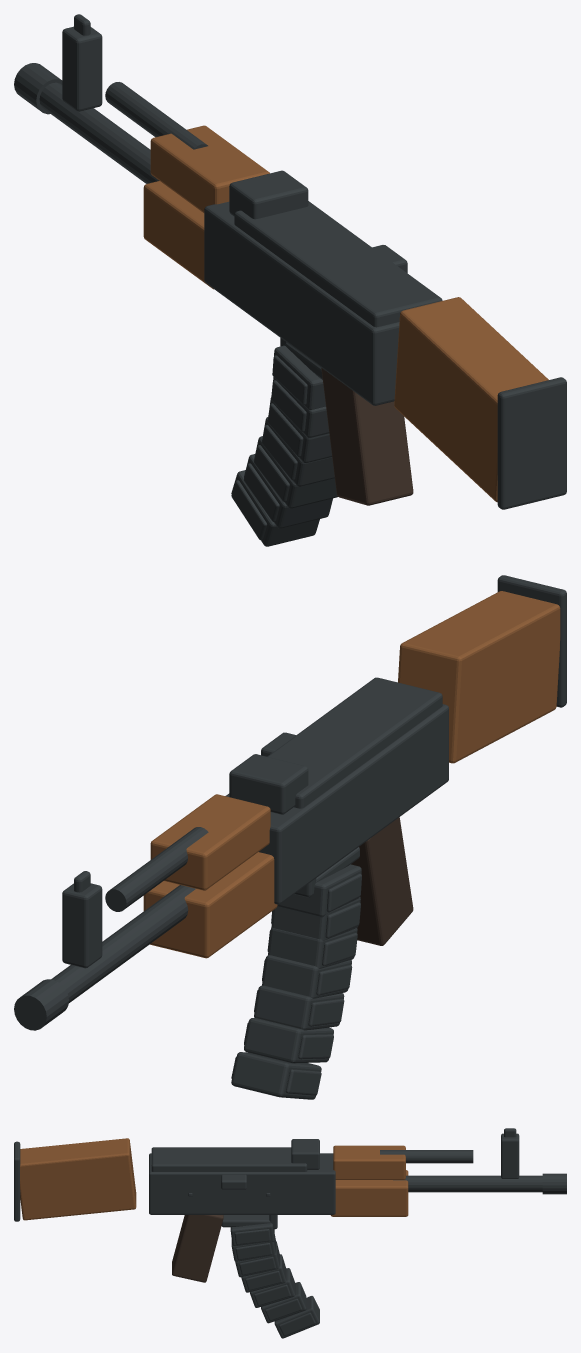
File: Weapon_ak47.glb
3 views of the same model, one above another, from view 1: azimuth 30°, elevation 25°; view 2: azimuth 150°, elevation 25°; view 3: azimuth 270°, elevation 25° (orthographic). The views are drawn at different scales.
Visible parts, largest first — view 1: Weapon_ak47, ReloadMagazine; view 2: Weapon_ak47, ReloadMagazine; view 3: Weapon_ak47, ReloadMagazine, ChargingHandle.
Boxes of the visible parts, left/top/right/bottom form: Weapon_ak47: left=14, top=14, right=566, bottom=509; ReloadMagazine: left=231, top=345, right=337, bottom=546; Weapon_ak47: left=14, top=575, right=566, bottom=1030; ReloadMagazine: left=231, top=864, right=361, bottom=1099; Weapon_ak47: left=14, top=1128, right=566, bottom=1282; ReloadMagazine: left=230, top=1223, right=319, bottom=1338; ChargingHandle: left=221, top=1174, right=246, bottom=1189.
Size of the model in its own units: 0.1235 by 0.4328 by 1.07.
